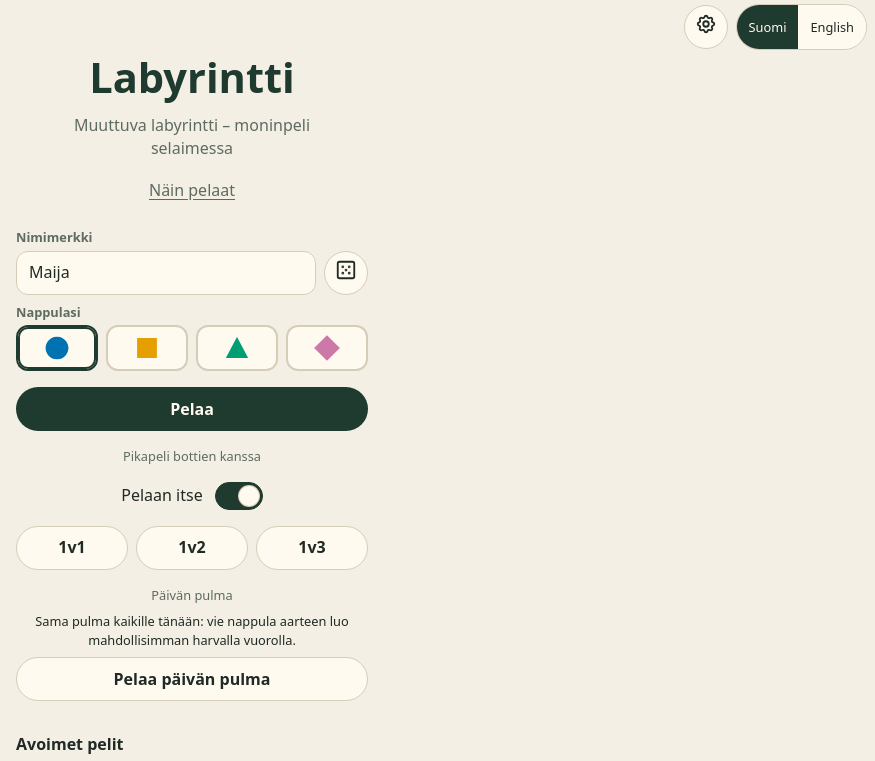
Test: lobby › Nickname › Too short: every join and create action is disabled and a hint says 2–16 characters
The width and height of the screenshot is (875, 761).
Replace the text in the field labelled "Nimimerkki" with "M" at (166, 273), box [16, 251, 316, 295]
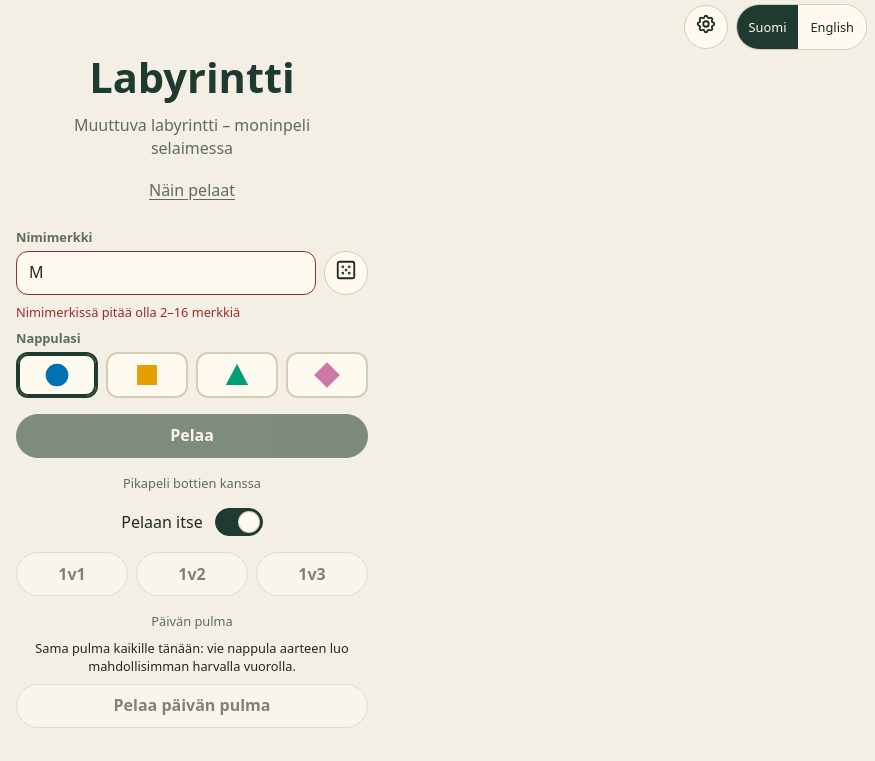
Expected: the button "Pelaa" is disabled, [16, 414, 368, 458]
Expected: the text "Nimimerkissä pitää olla 2–16 merkkiä" is shown, [16, 303, 240, 321]
